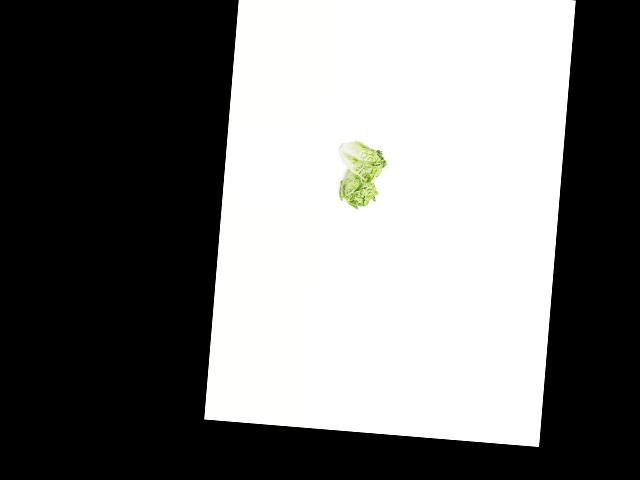lettuce: (332, 164, 380, 210)
